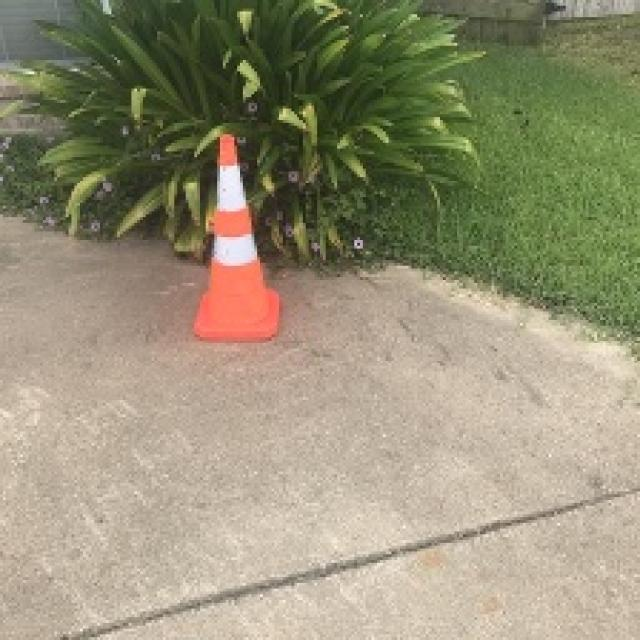traffic cone: (193, 134, 281, 343)
